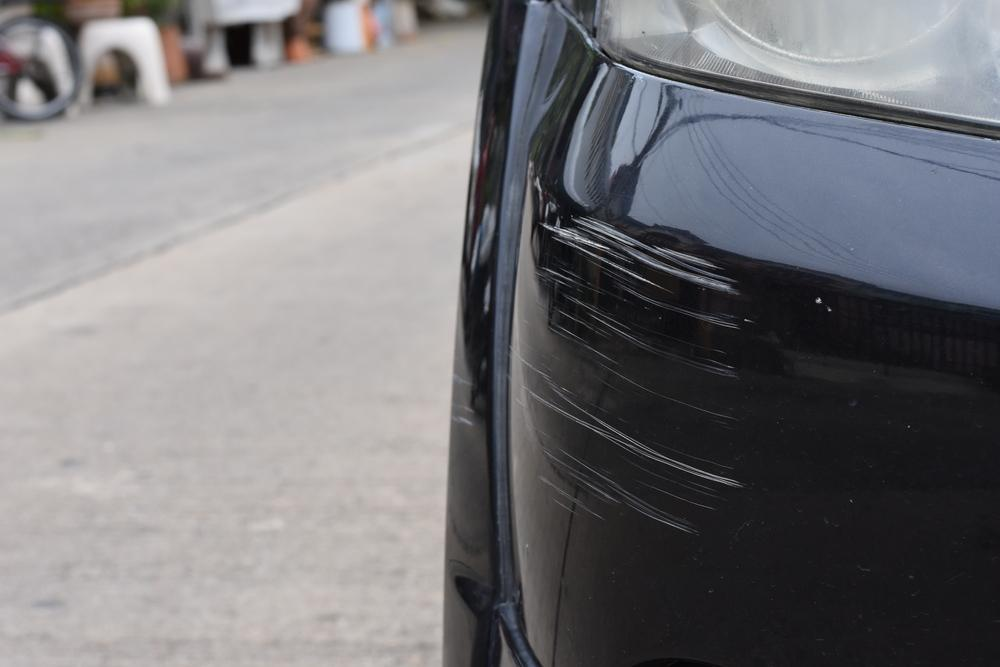scratch: (513, 205, 751, 531)
